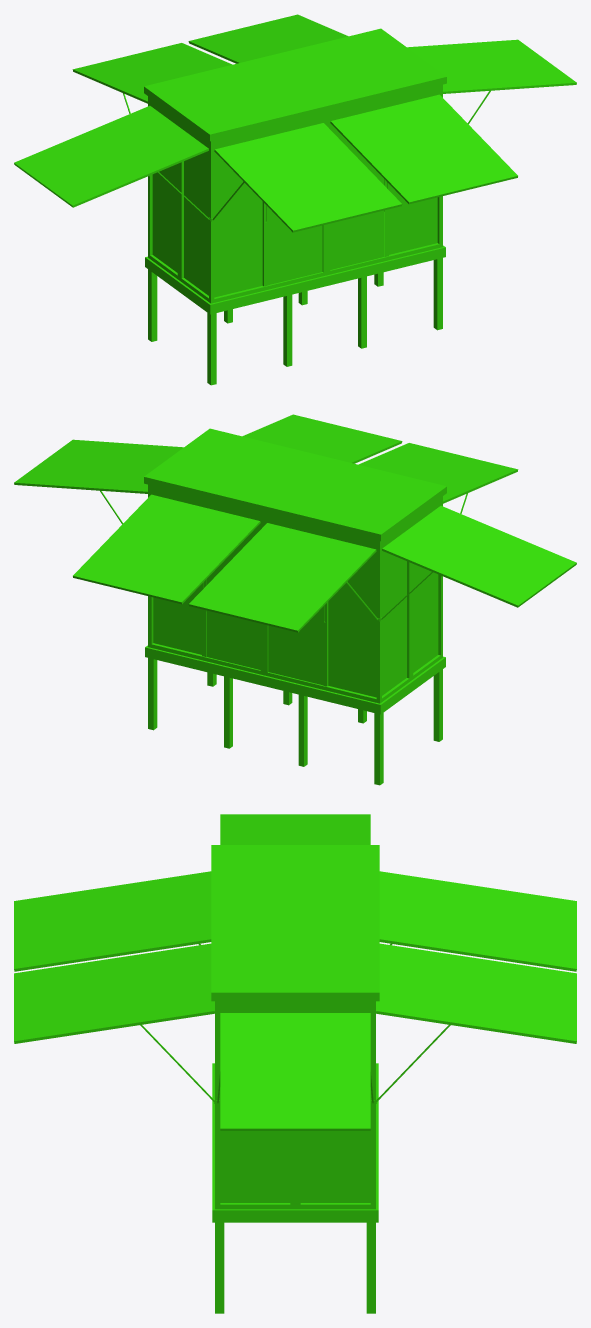
Rendered from mobilePantry.fbx.
3 views of the same model, one above another, from view 1: azimuth 30°, elevation 25°; view 2: azimuth 150°, elevation 25°; view 3: azimuth 270°, elevation 25° (orthographic). The views are drawn at different scales.
Visible parts, largest first — view 1: mobilePantry; view 2: mobilePantry; view 3: mobilePantry.
Part boxes in pixels (left/top/right/bottom): mobilePantry: left=14, top=14, right=576, bottom=385; mobilePantry: left=14, top=414, right=576, bottom=785; mobilePantry: left=14, top=814, right=576, bottom=1313.
Size of the model in its own units: 484 by 232 by 367.
